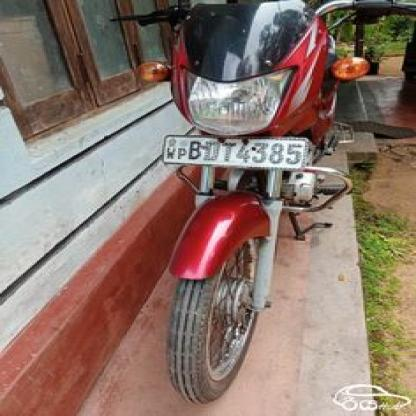bike front: (98, 0, 416, 410)
number plate: (161, 138, 307, 167)
